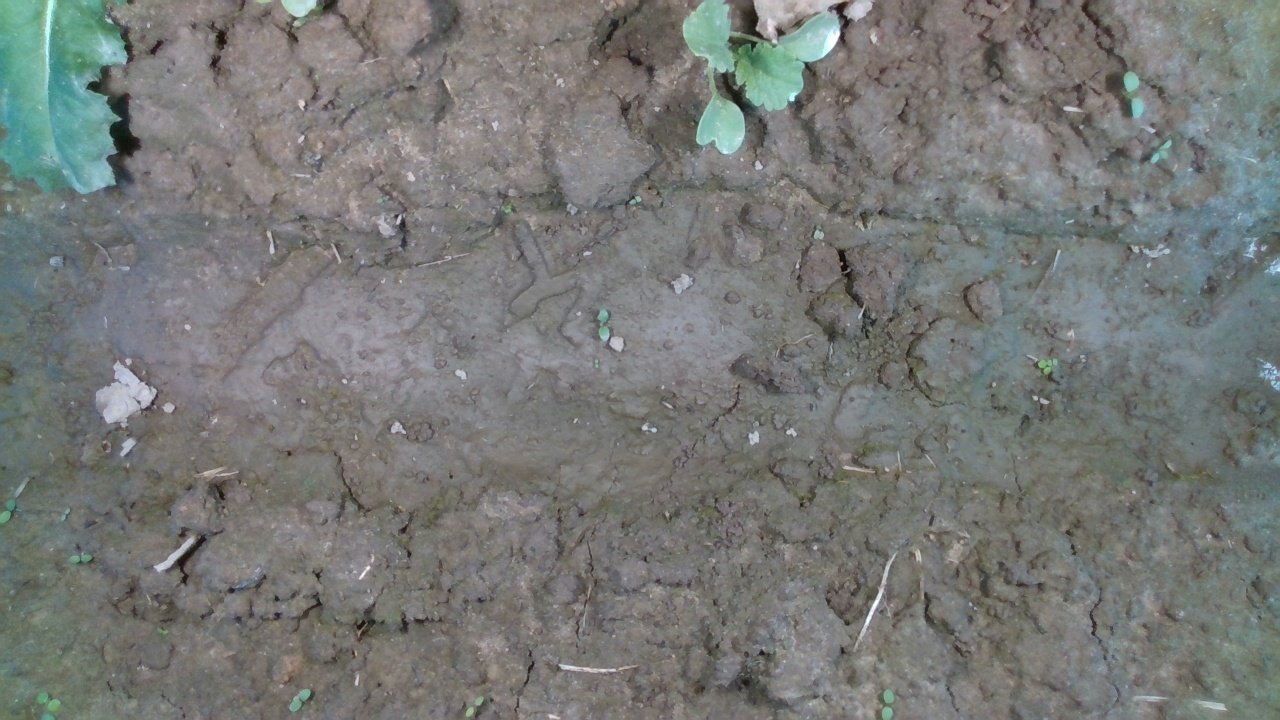weed: (592, 308, 622, 346), (1024, 355, 1071, 378), (1146, 136, 1184, 164)
